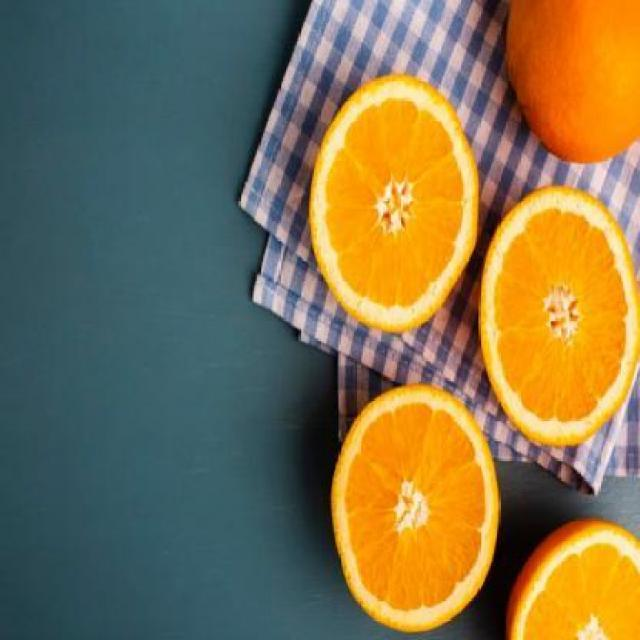Jeruk Sudah Matang: (504, 0, 640, 171)
